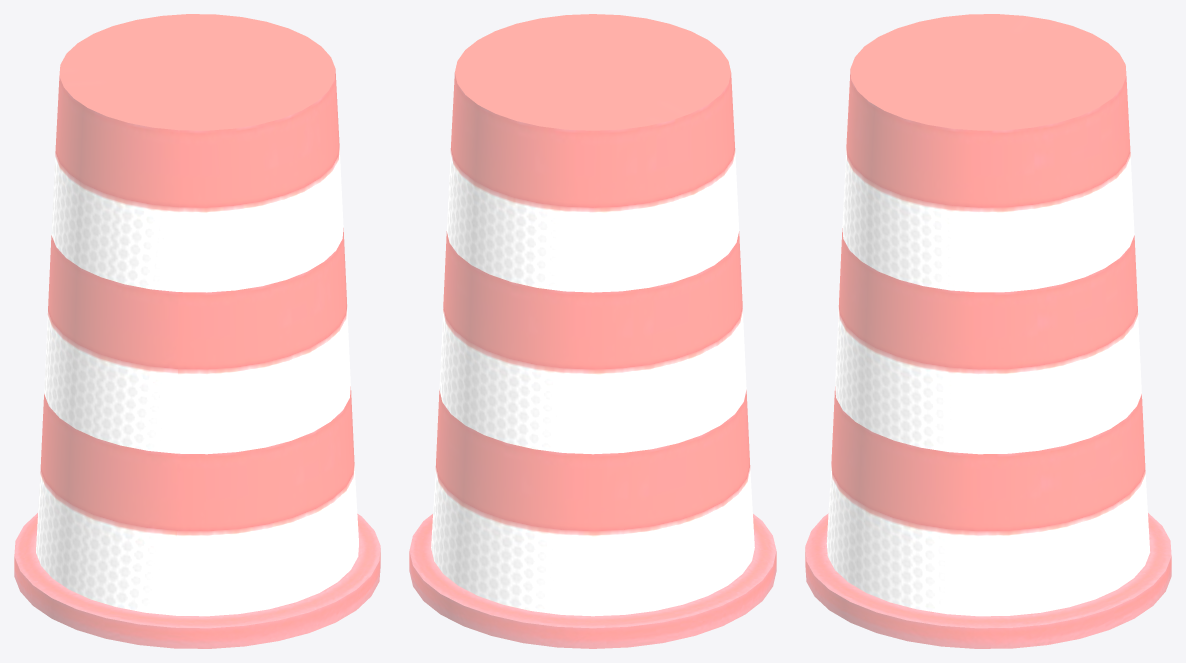
The model's file is Traffic_Bucket.glb.
3 renders of one model, left to right at view 1: azimuth 30°, elevation 25°; view 2: azimuth 150°, elevation 25°; view 3: azimuth 270°, elevation 25°, orthographic.
Visible parts, largest first — view 1: Traffic_Bucket; view 2: Traffic_Bucket; view 3: Traffic_Bucket.
Boxes of the visible parts, x1,y1,x2,y2 form: Traffic_Bucket: (14, 14, 380, 648); Traffic_Bucket: (409, 14, 776, 648); Traffic_Bucket: (805, 14, 1171, 648).
Size of the model in its own units: 0.5981 by 0.9001 by 0.5981.
1 material, 1 textured.
